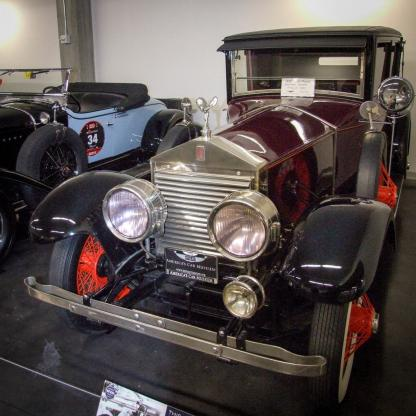Car: (5, 51, 409, 405), (1, 68, 199, 267)
